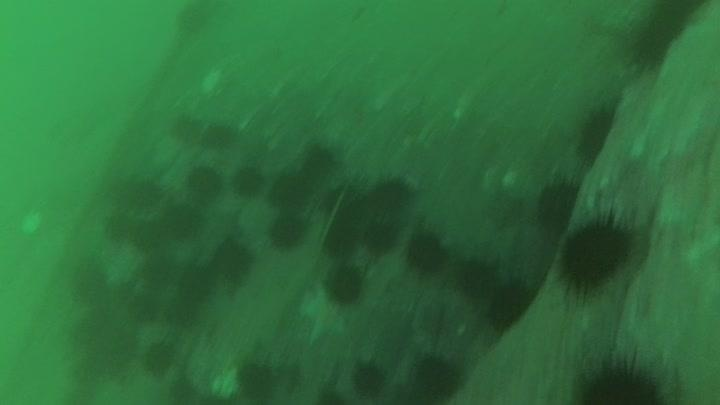echinus: (558, 212, 636, 293), (627, 3, 702, 71), (572, 351, 668, 404), (573, 102, 620, 167), (484, 278, 536, 333), (410, 351, 465, 402), (533, 178, 583, 234), (69, 257, 112, 307), (404, 229, 449, 275), (211, 238, 256, 284), (234, 358, 279, 403), (455, 257, 501, 301), (113, 175, 165, 213), (366, 175, 414, 214), (319, 177, 367, 216), (324, 262, 366, 306), (159, 201, 204, 242), (175, 262, 216, 306), (268, 170, 313, 210), (321, 217, 362, 259), (267, 212, 309, 251), (349, 360, 389, 400), (360, 216, 400, 255), (174, 2, 217, 37), (299, 142, 339, 179), (141, 338, 177, 378), (184, 164, 224, 199), (103, 209, 141, 244), (169, 113, 207, 147), (200, 121, 239, 152), (232, 164, 266, 199)
starfish: (297, 287, 350, 345)
